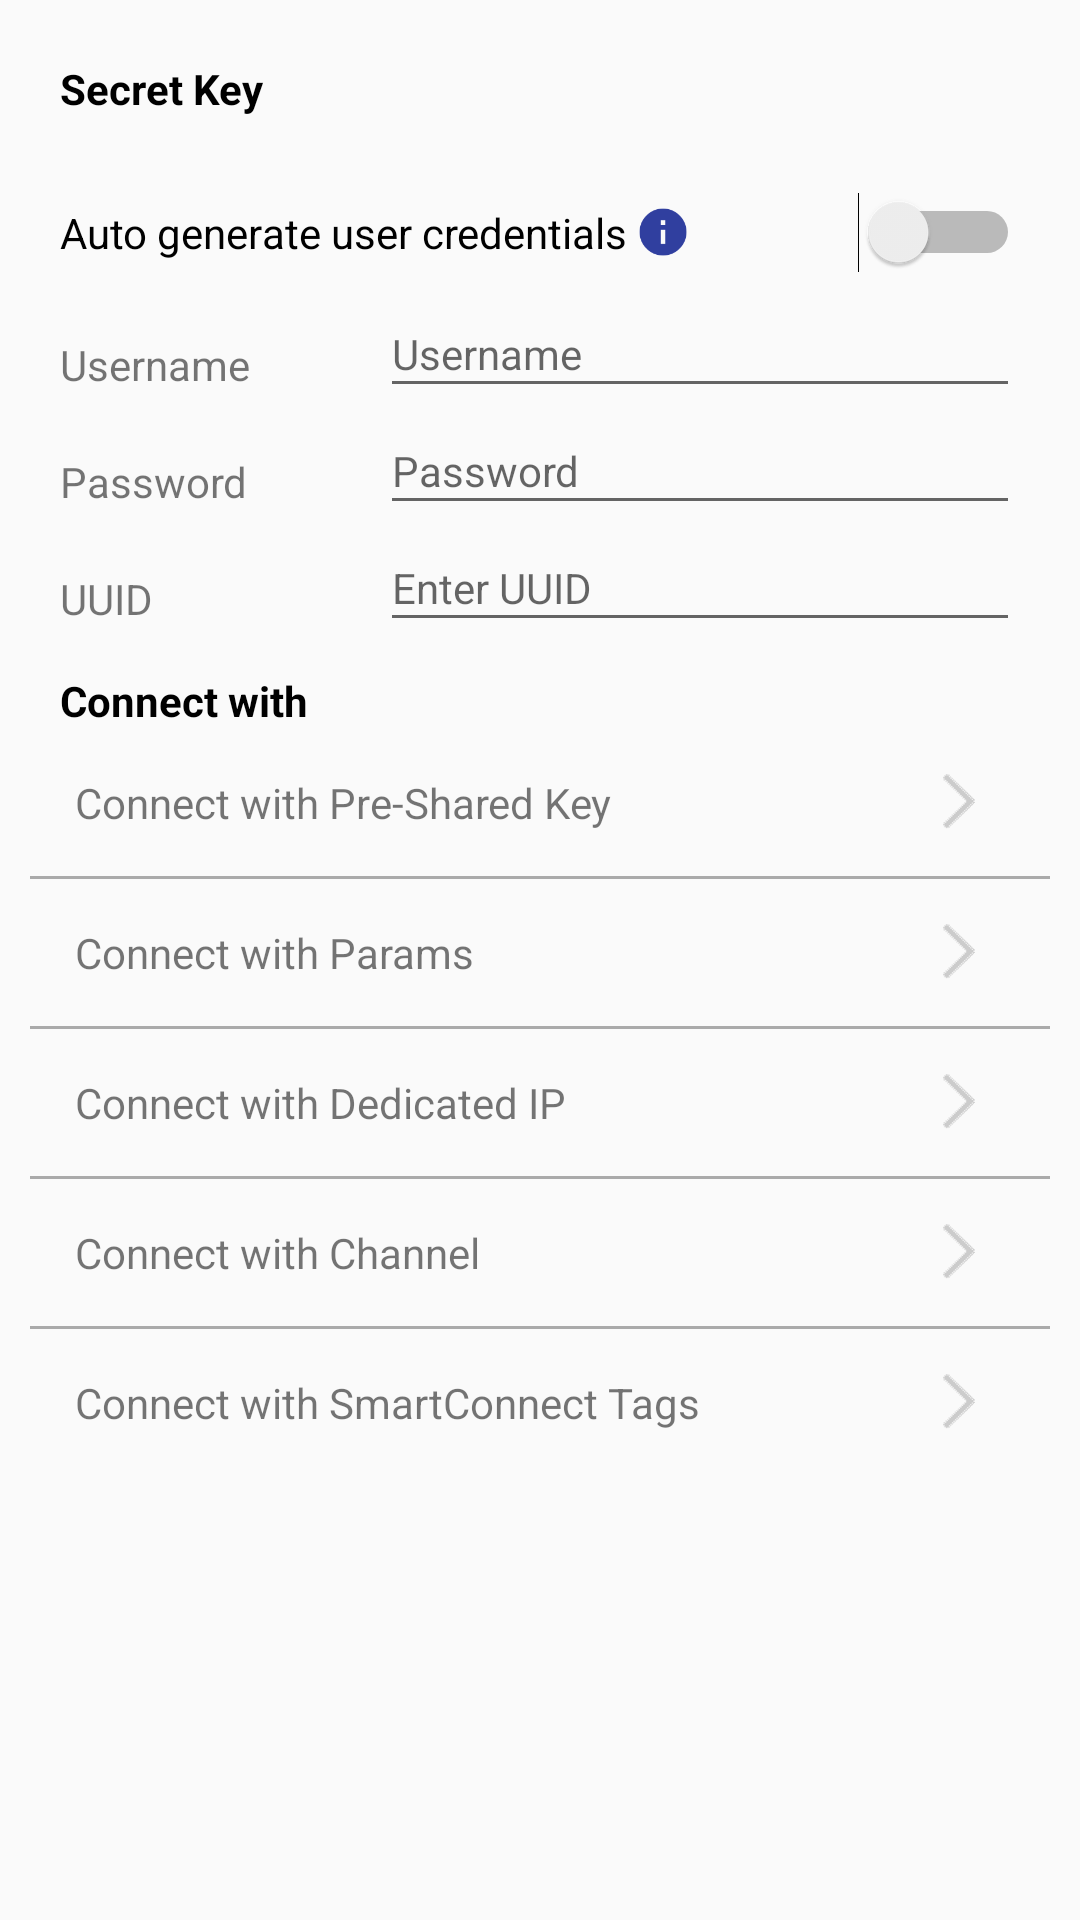

Icons on this 1080x1920 Android screen, each with the point to tap as (x,y):
arrow right: (959,801), (959,951), (959,1101), (959,1251), (959,1401)
info: (663,232)
